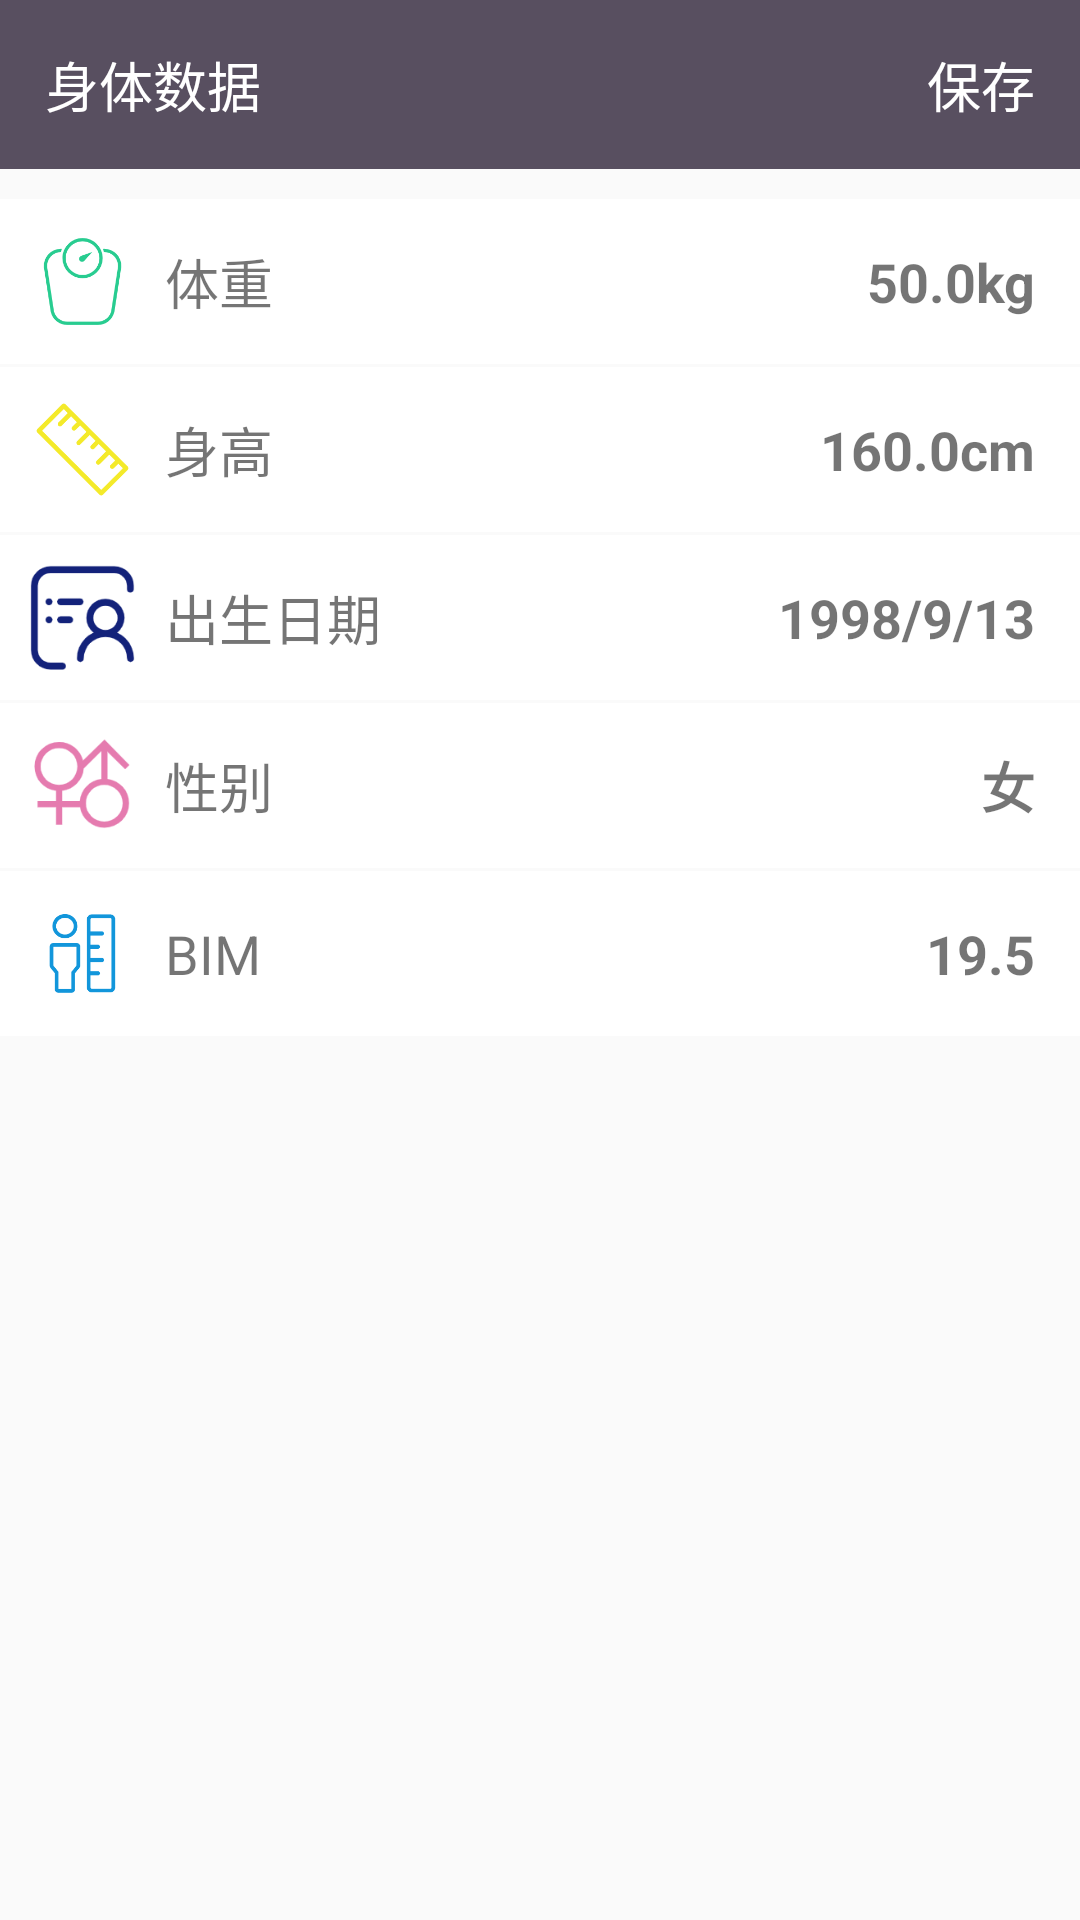

Screen size 1080px x 1920px. Icon name, then its box in pixels as {"x1": x1, "y1": y1, "x2": x2, "y2": y2}:
age: {"x1": 31, "y1": 566, "x2": 134, "y2": 670}
height: {"x1": 36, "y1": 403, "x2": 129, "y2": 496}
sex: {"x1": 34, "y1": 739, "x2": 129, "y2": 828}
weight: {"x1": 44, "y1": 238, "x2": 122, "y2": 325}
